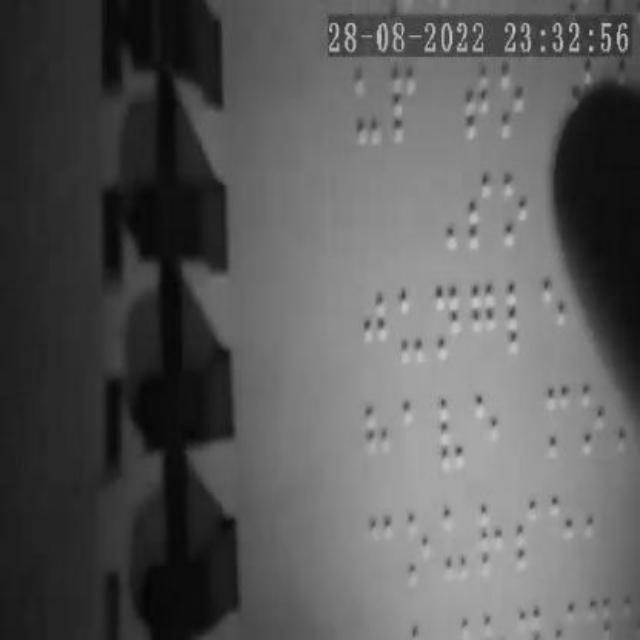braiile: (455, 160, 495, 256), (346, 59, 379, 157), (427, 280, 463, 368), (504, 276, 540, 364), (389, 282, 425, 368), (435, 502, 471, 588), (354, 286, 388, 376), (358, 398, 392, 487), (466, 278, 502, 362), (494, 168, 528, 255), (458, 59, 490, 151), (509, 494, 539, 590), (574, 377, 608, 461), (473, 499, 505, 588), (492, 59, 524, 145), (386, 61, 418, 147), (546, 489, 576, 579), (540, 274, 570, 362), (399, 508, 431, 590), (469, 389, 499, 476), (432, 394, 464, 474), (396, 399, 428, 477), (540, 382, 570, 462), (363, 508, 393, 588), (578, 493, 608, 569)
